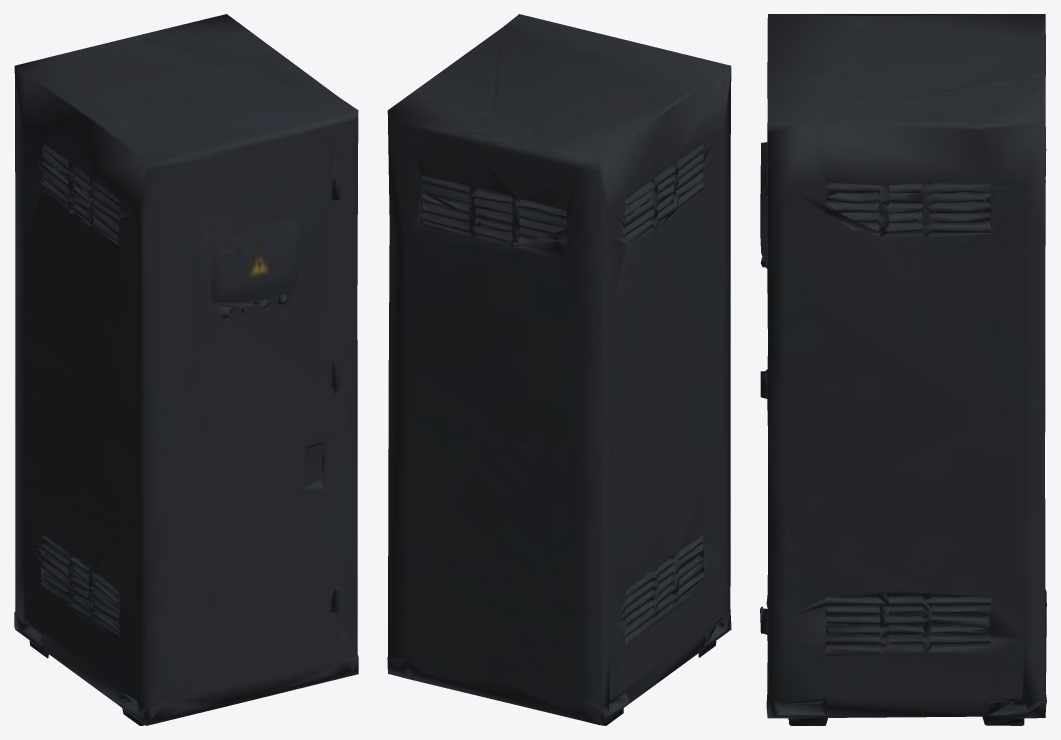
The model's file is ups_cabinet.glb.
3 renders of one model, left to right at view 1: azimuth 30°, elevation 25°; view 2: azimuth 150°, elevation 25°; view 3: azimuth 270°, elevation 25°, orthographic. The views are drawn at different scales.
Size of the model in its own units: 0.7392 by 1.9 by 0.8156.
Materials: 1 (1 with a texture image).
